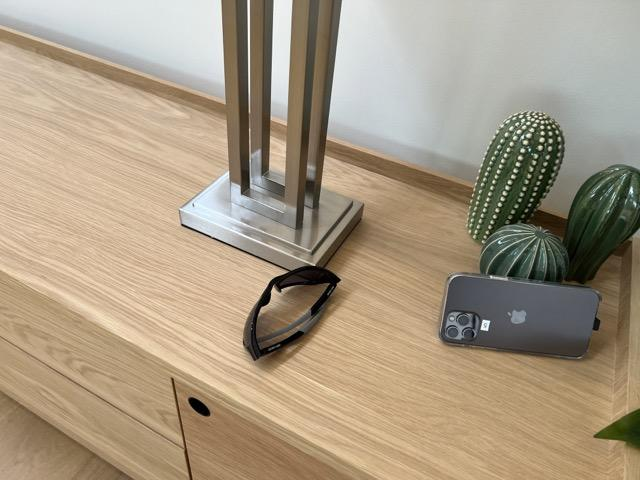Sunglasses: (243, 264, 342, 364)
